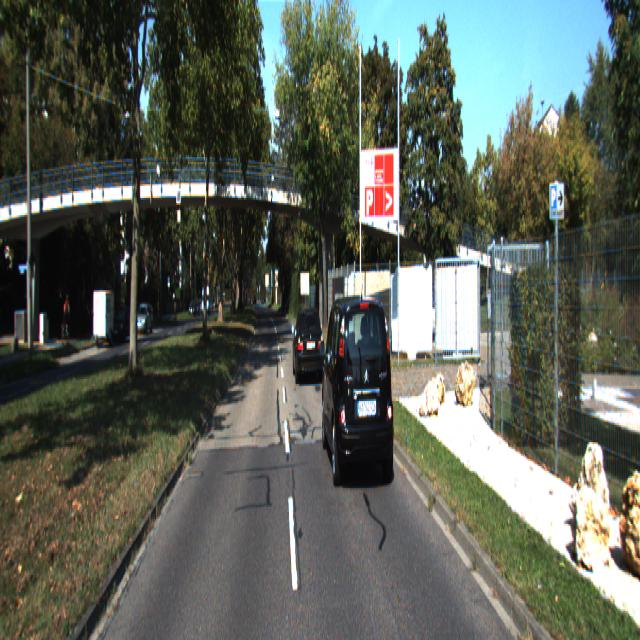Car: (319, 291, 397, 494), (292, 304, 323, 384)
